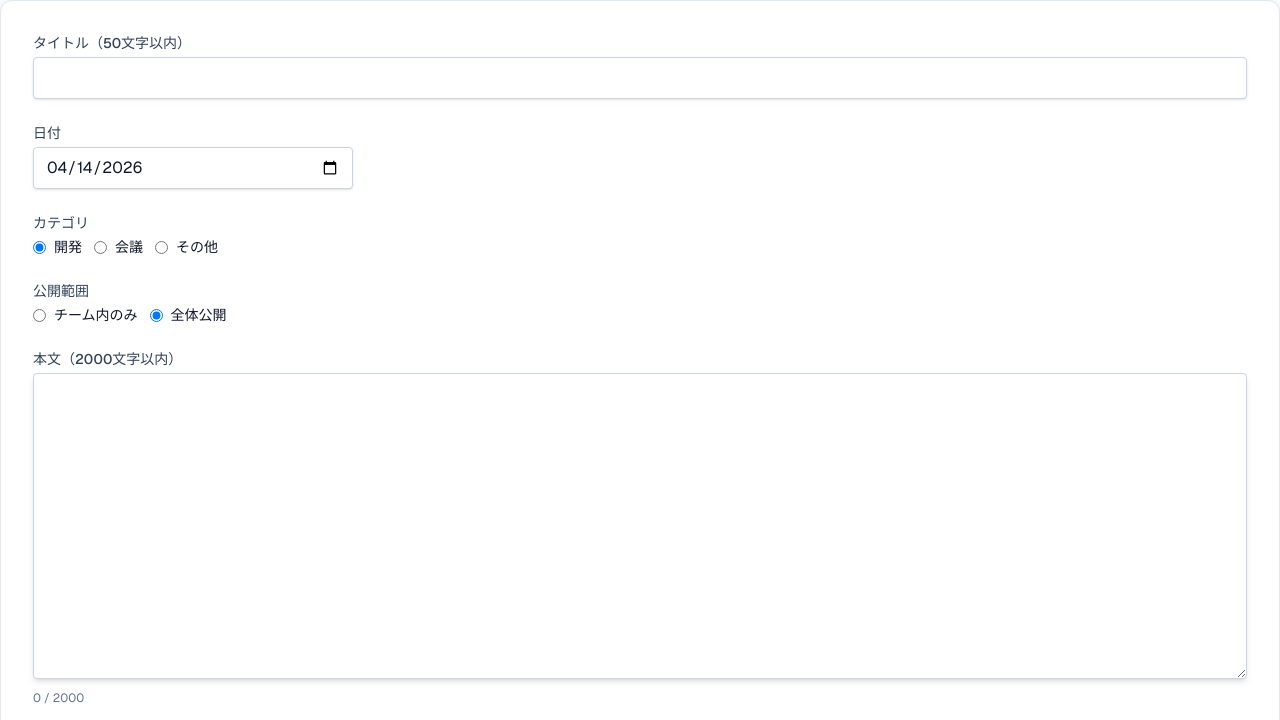
Test: ReportForm › チーム内公開選択時にチームセレクトが表示される
Click the radio button labelled "チーム内のみ": (40, 315) [33, 308, 46, 322]
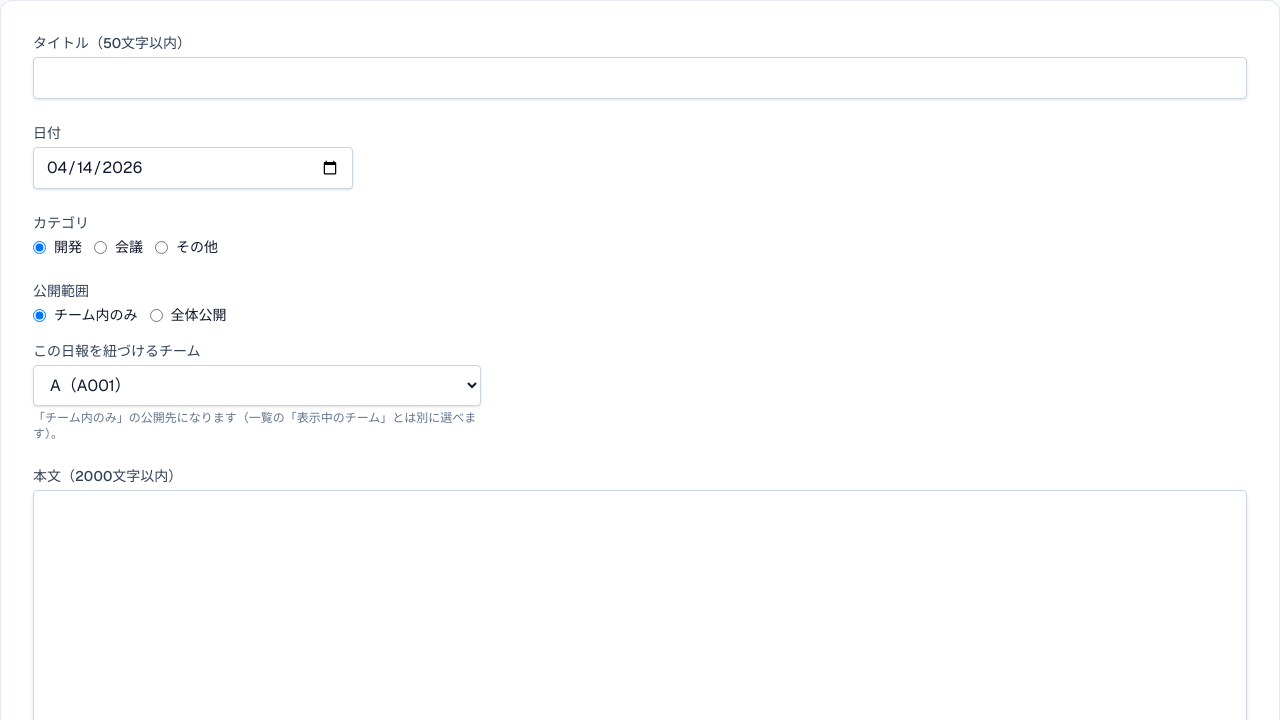
Check: the dropdown labelled "この日報を紐づけるチーム" is shown, box [33, 365, 481, 406]
